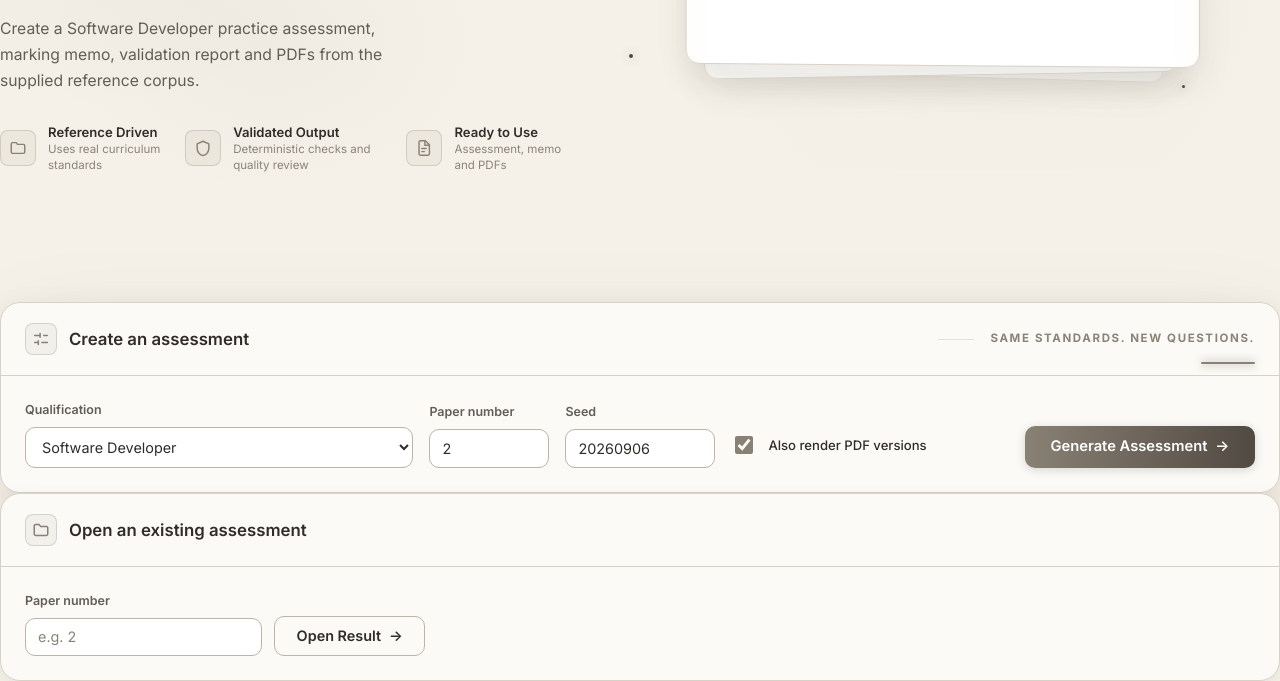
Test: Dashboard › shows a clean rate-limit message instead of a raw error when generation is throttled
This screenshot has width=1280, height=681.
(page scrolled)
What coordinates should you click on to do the following:
click the button "Generate Assessment →"
I would click on:
 (1140, 447)
Its box is top-left (1025, 426), bottom-right (1255, 468).
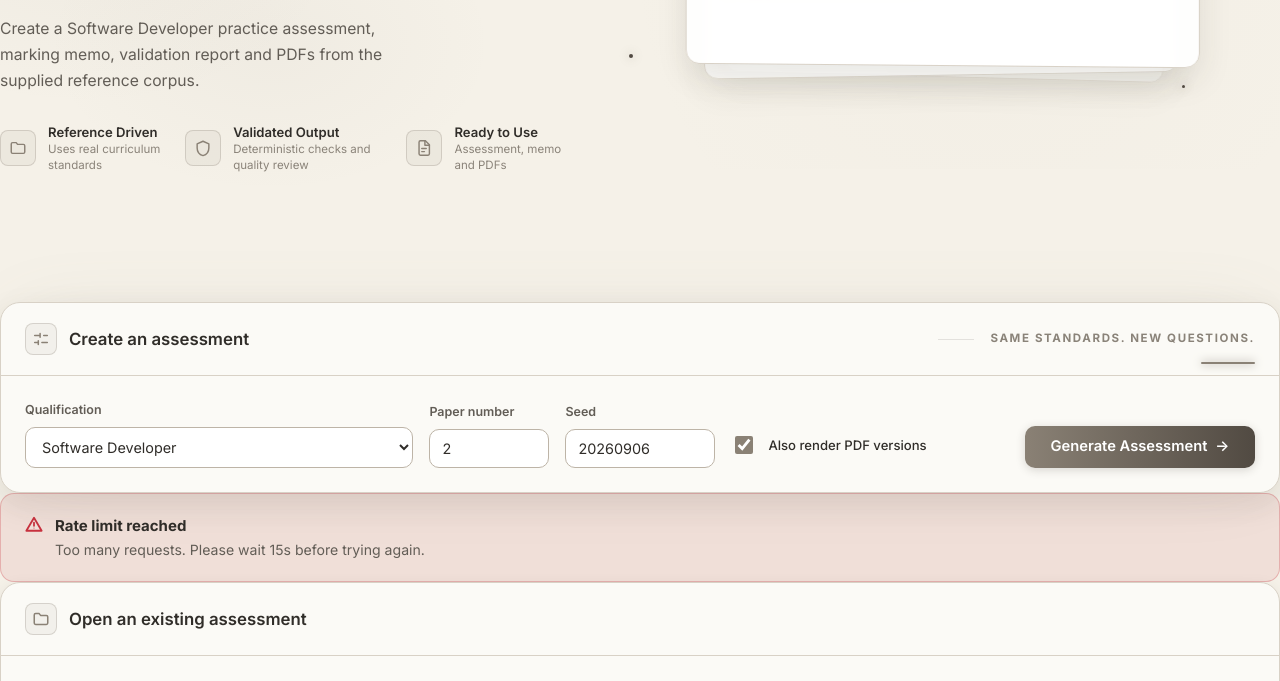
Result: the message shows "Too many requests" at top-left (55, 541), bottom-right (425, 558)
Result: the message shows "15s" at top-left (55, 541), bottom-right (425, 558)
